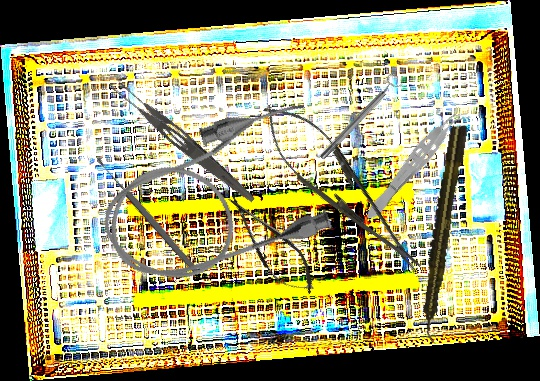Cannula: (82, 90, 349, 305)
Dressing Forceps: (108, 77, 261, 206)
Fixation Ring: (314, 70, 406, 164)
Handpiece: (414, 121, 471, 345)
Micro Scissor: (215, 184, 326, 306)
Needle Holder: (246, 89, 437, 288)
Surgical Spoon: (95, 156, 200, 275)
Tissue Forceps: (359, 100, 473, 227)
